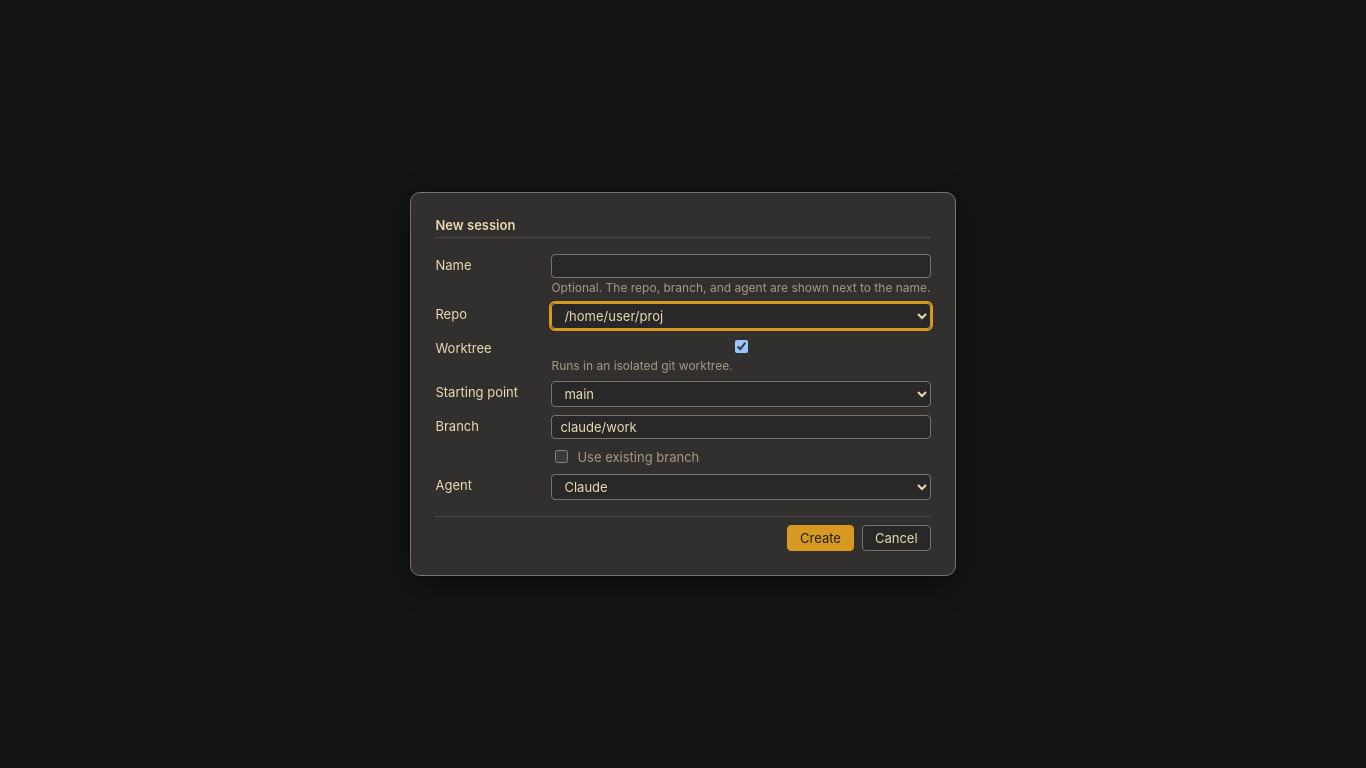
Test case: disabling worktree hides Starting point and sub-toggle; shows single branch dropdown
Turn off the worktree.
Click the checkbox labelled "Worktree Runs in an isolated git worktree.".
click(741, 346)  # box x1=555 y1=340 x2=928 y2=353
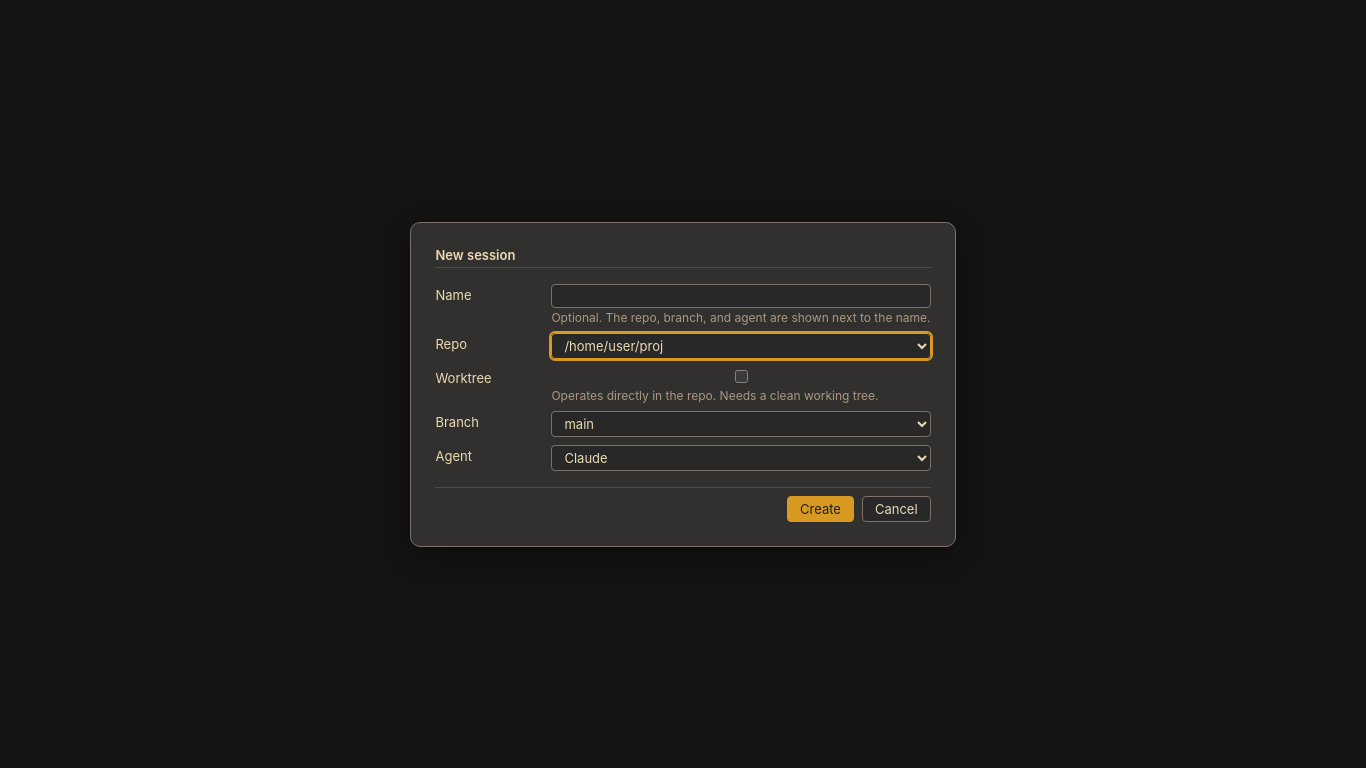
Expected: the dropdown labelled "Branch" is shown, x1=551 y1=410 x2=930 y2=436
Now the text labelled "Starting point" is gone
